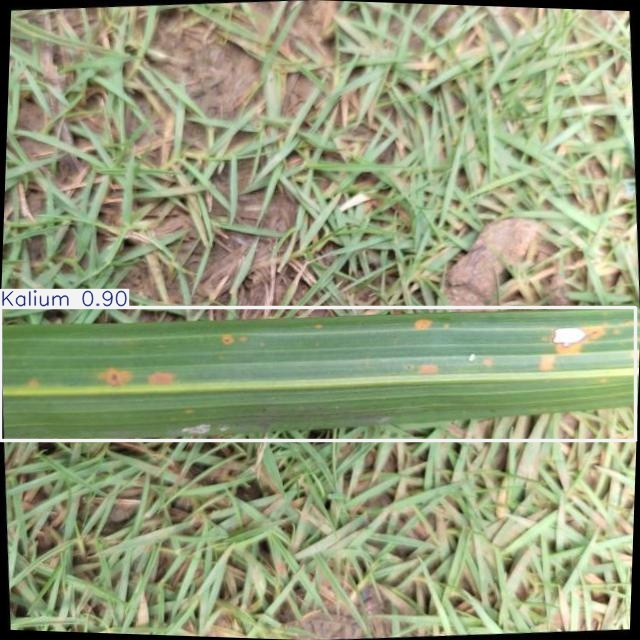Kalium: (0, 307, 635, 441)
